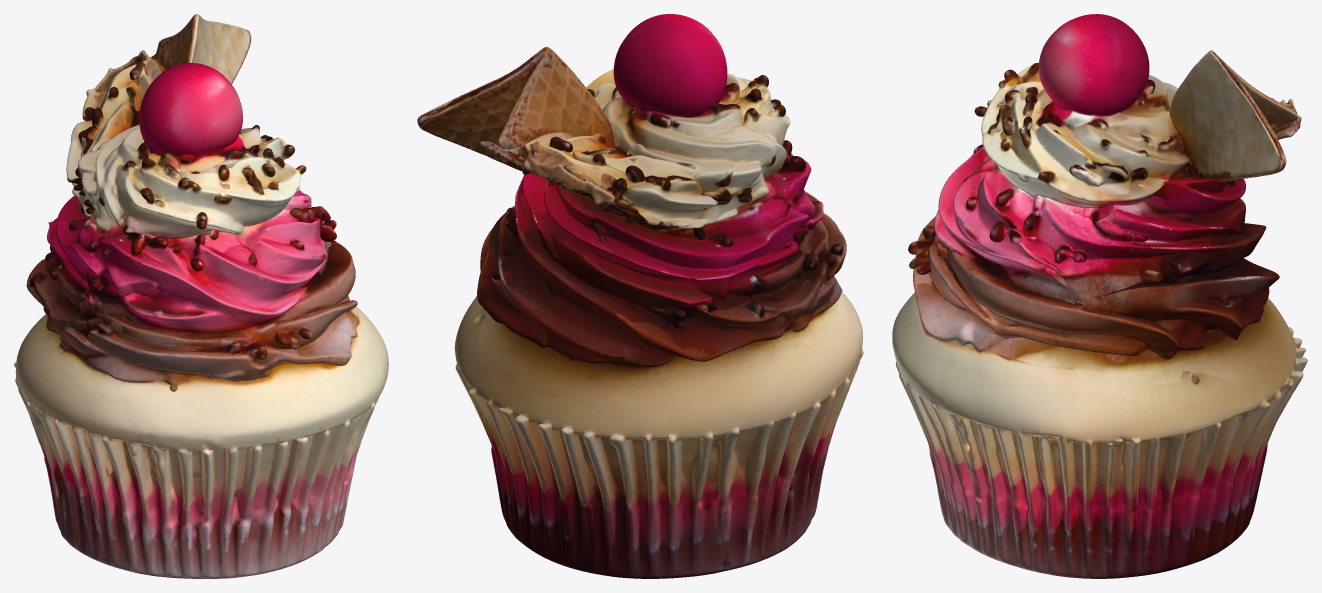
Rendered from icee.glb.
3 views of the same model, side by side, from view 1: azimuth 30°, elevation 25°; view 2: azimuth 150°, elevation 25°; view 3: azimuth 270°, elevation 25° (orthographic). The views are drawn at different scales.
Visible parts, largest first — view 1: tripo_node_cc435c85-9db8-44ce-8672-8e1f3bbf714c; view 2: tripo_node_cc435c85-9db8-44ce-8672-8e1f3bbf714c; view 3: tripo_node_cc435c85-9db8-44ce-8672-8e1f3bbf714c.
Boxes of the visible parts, x1,y1,x2,y2 form: tripo_node_cc435c85-9db8-44ce-8672-8e1f3bbf714c: [14, 14, 388, 578]; tripo_node_cc435c85-9db8-44ce-8672-8e1f3bbf714c: [417, 14, 863, 578]; tripo_node_cc435c85-9db8-44ce-8672-8e1f3bbf714c: [892, 14, 1307, 578].
Size of the model in its own units: 0.7413 by 1 by 0.7619.
1 material, 1 textured.
